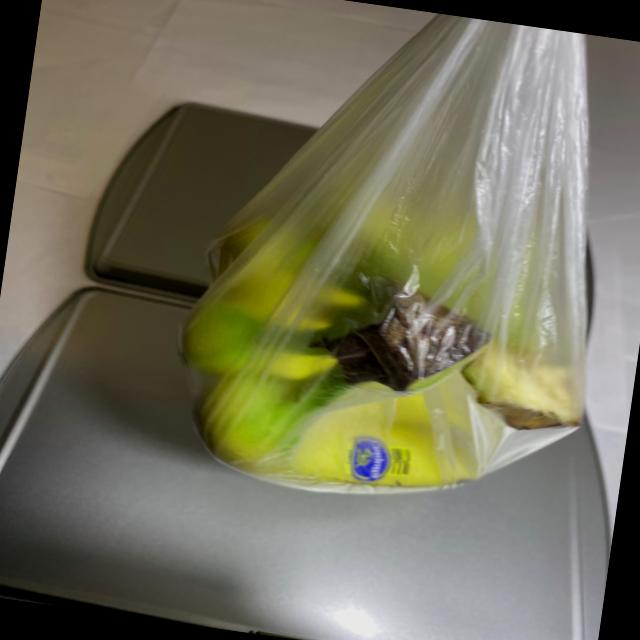banana: (158, 175, 615, 528)
